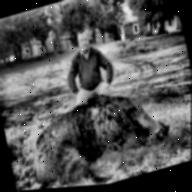boar: (19, 65, 191, 191)
